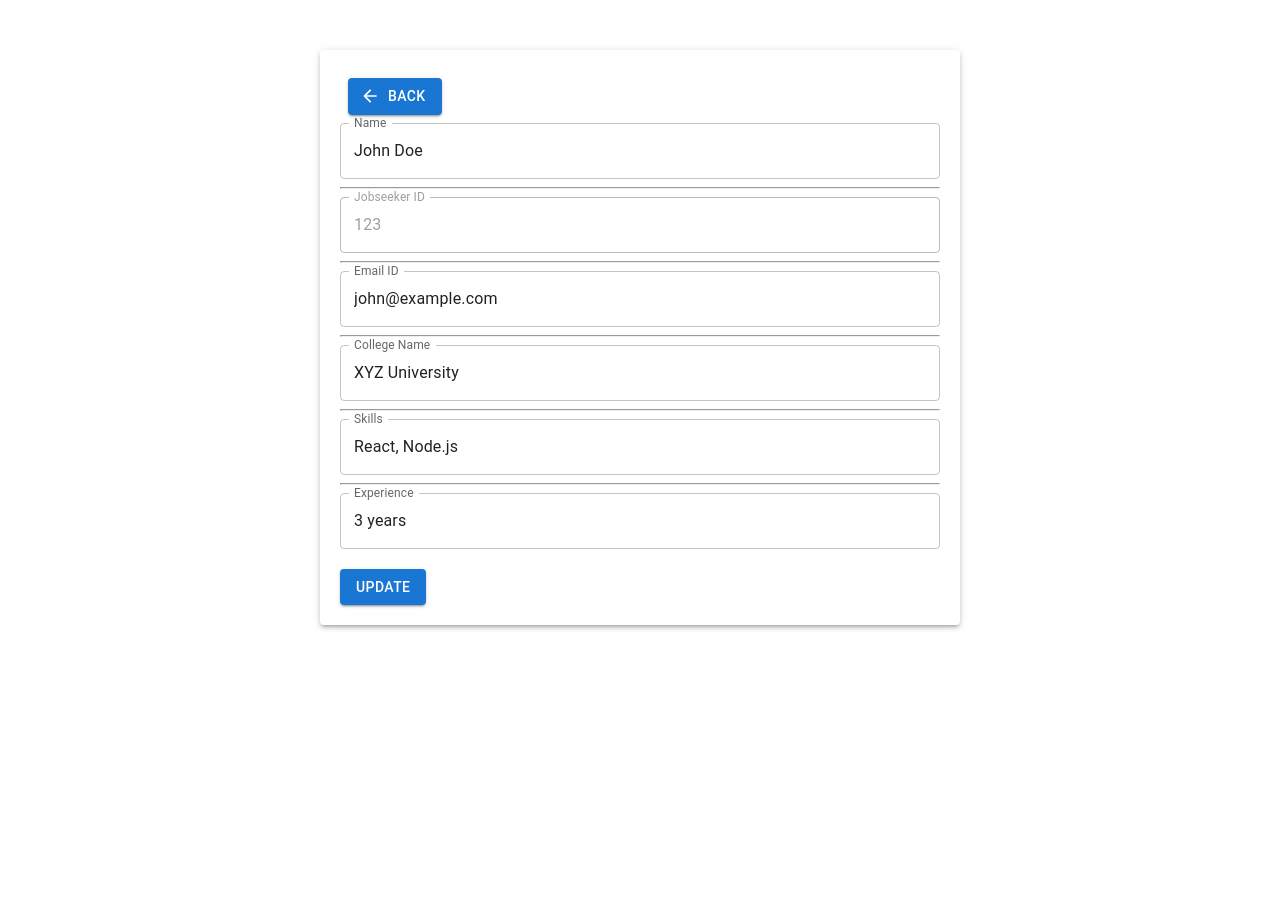
Test: Profile component › submits profile form with updated values
Replace the text in the field labelled "Name" with "Jane Doe" at (640, 150), box x1=340 y1=122 x2=940 y2=178
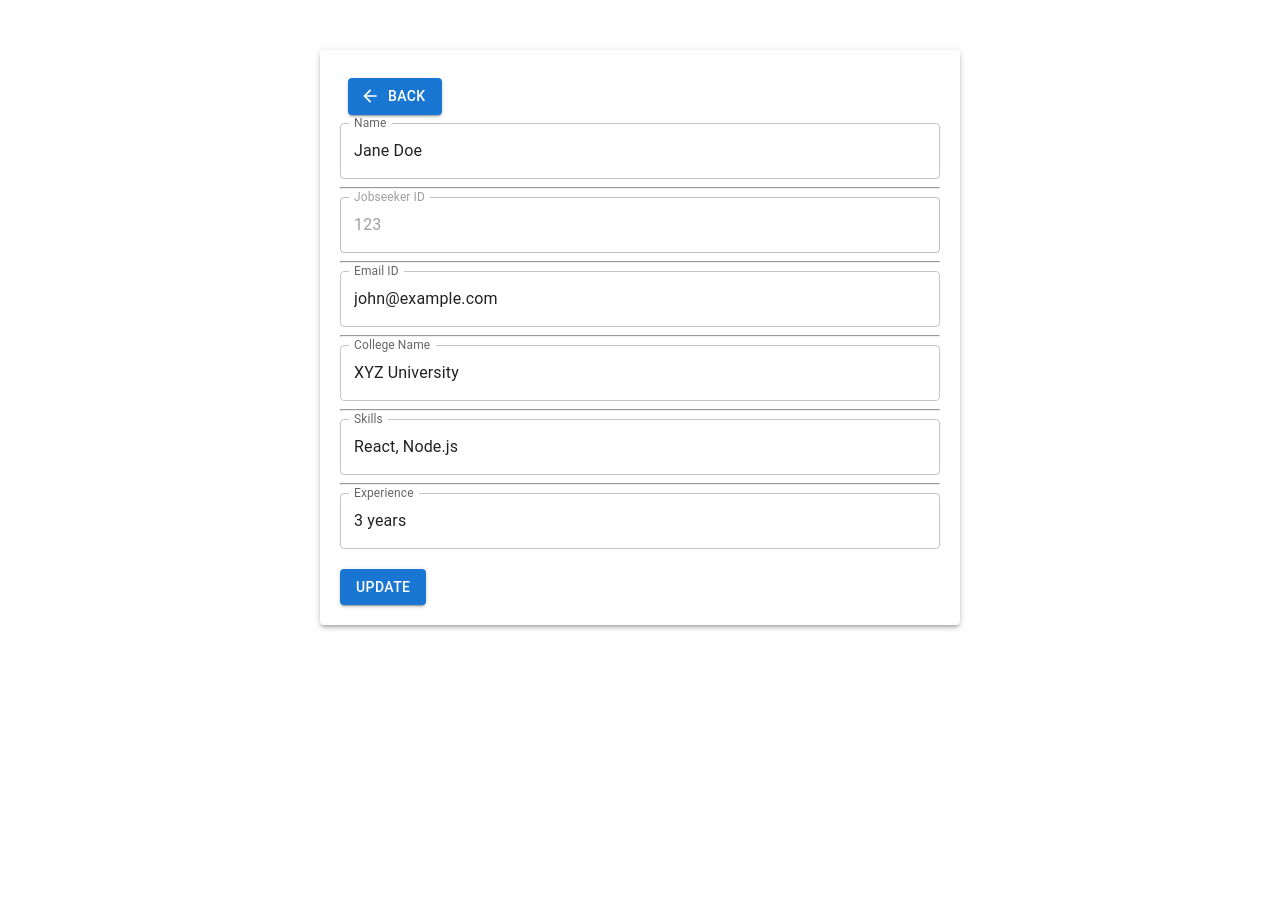
Click the button "Update" at (383, 587), box x1=340 y1=568 x2=426 y2=605
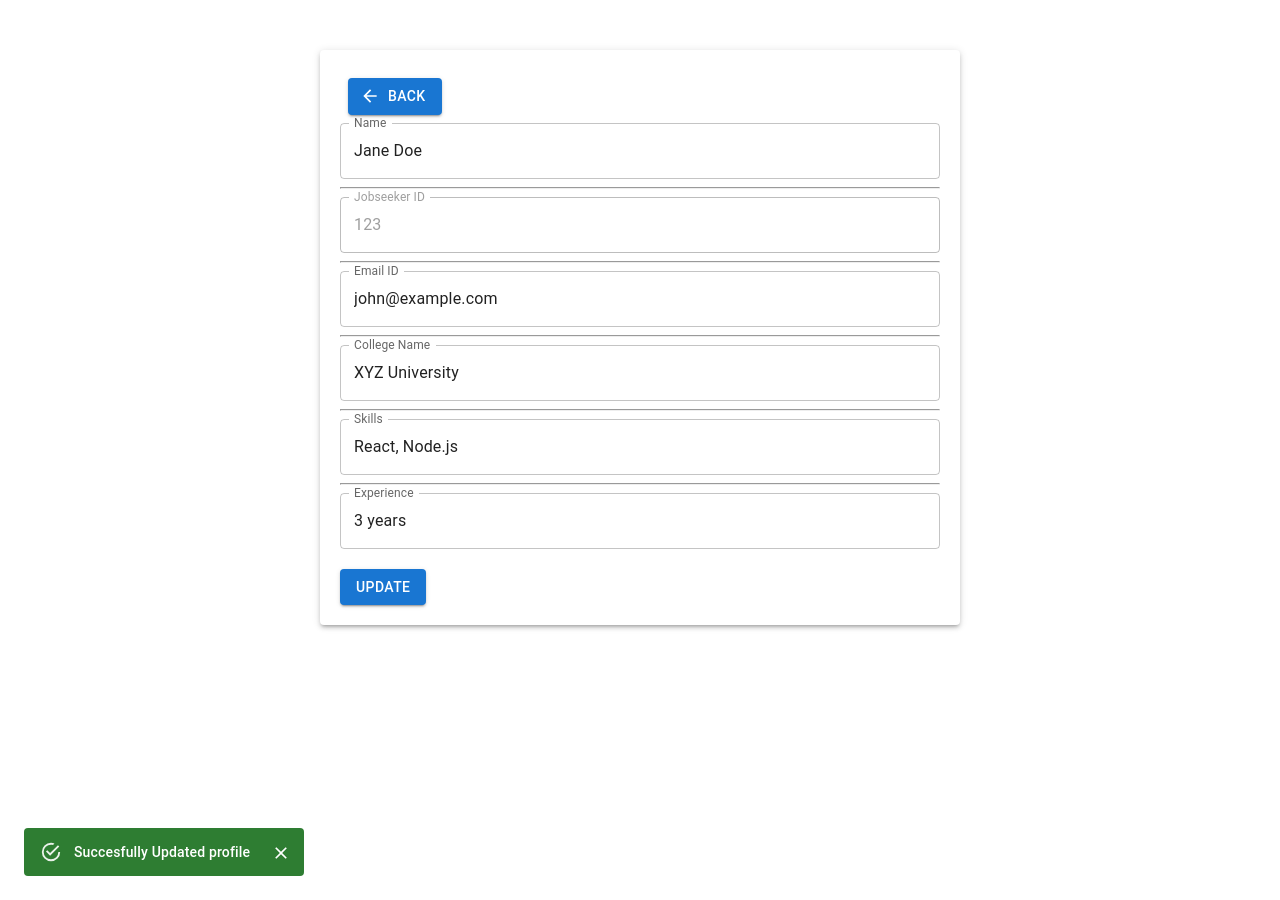
Now the text "Succesfully Updated profile" is shown, box x1=74 y1=844 x2=250 y2=860
